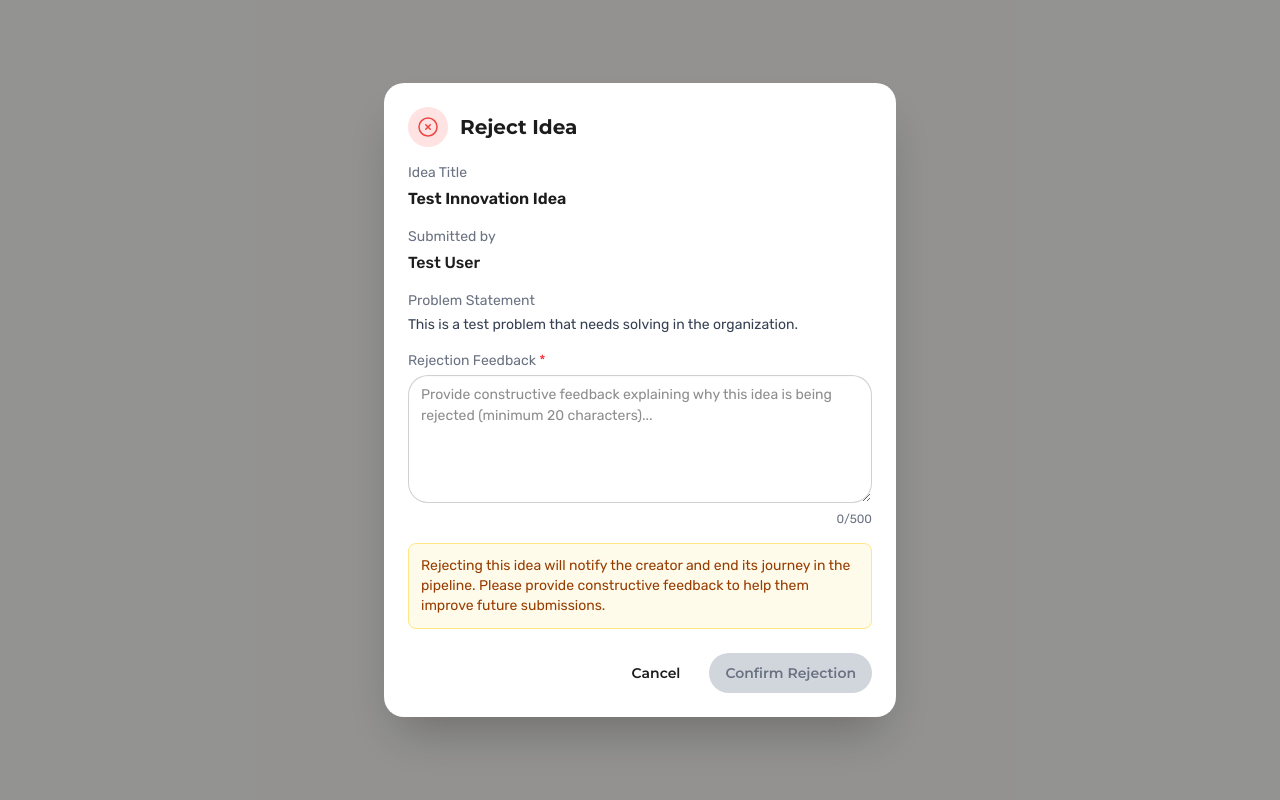
Scenario: RejectIdeaModal - Story 5.5 Task 4 › Subtask 4.7: Validation › shows validation message when feedback is too short
Type "Short" into the text box labelled "Rejection Feedback *" at [640, 439], box x1=408 y1=375 x2=872 y2=503
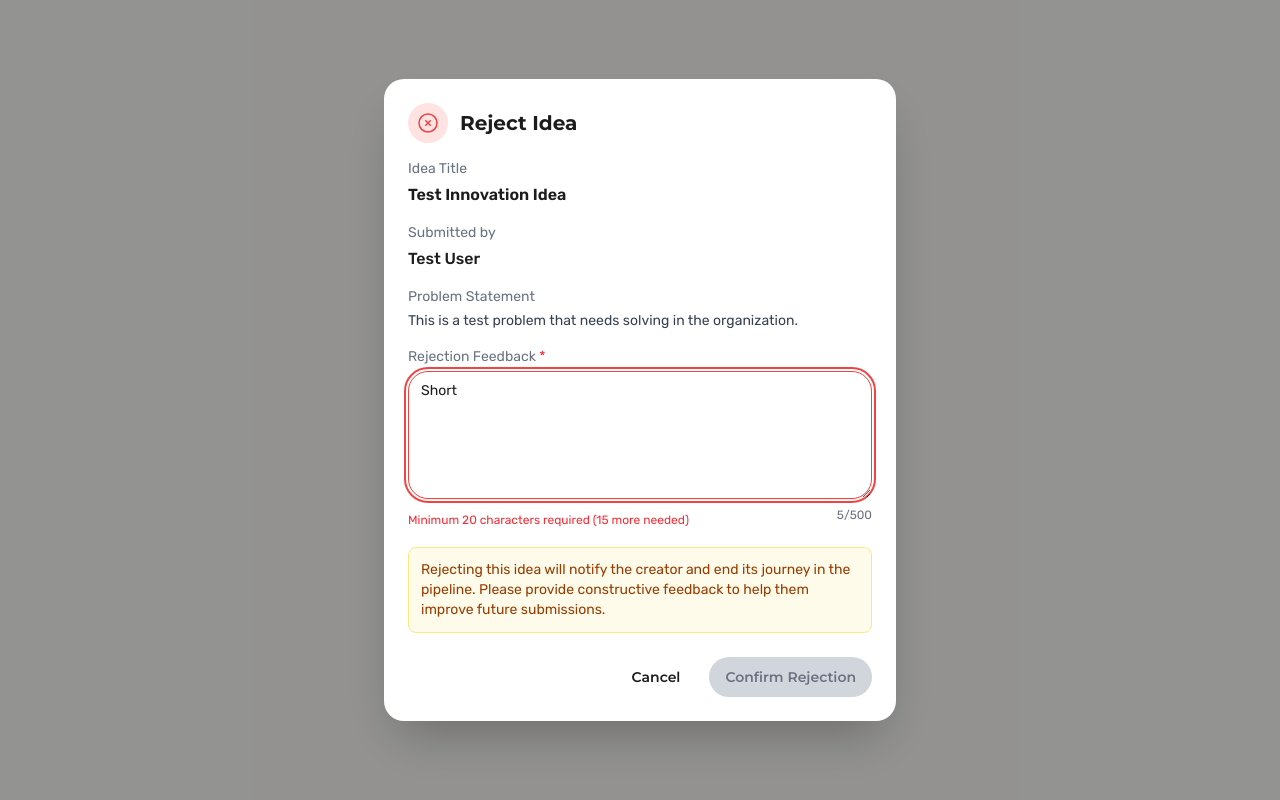
Expected: the text "Minimum 20 characters required (15 more needed)" is shown, x1=408 y1=513 x2=689 y2=527
